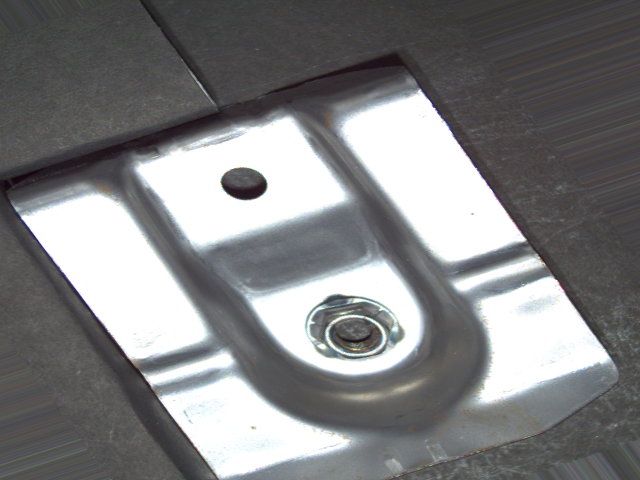good: (296, 286, 410, 365)
